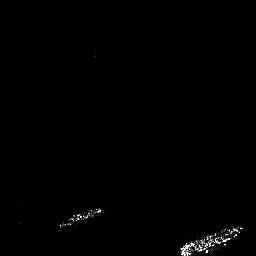ship: (178, 224, 243, 256), (56, 206, 106, 230)
